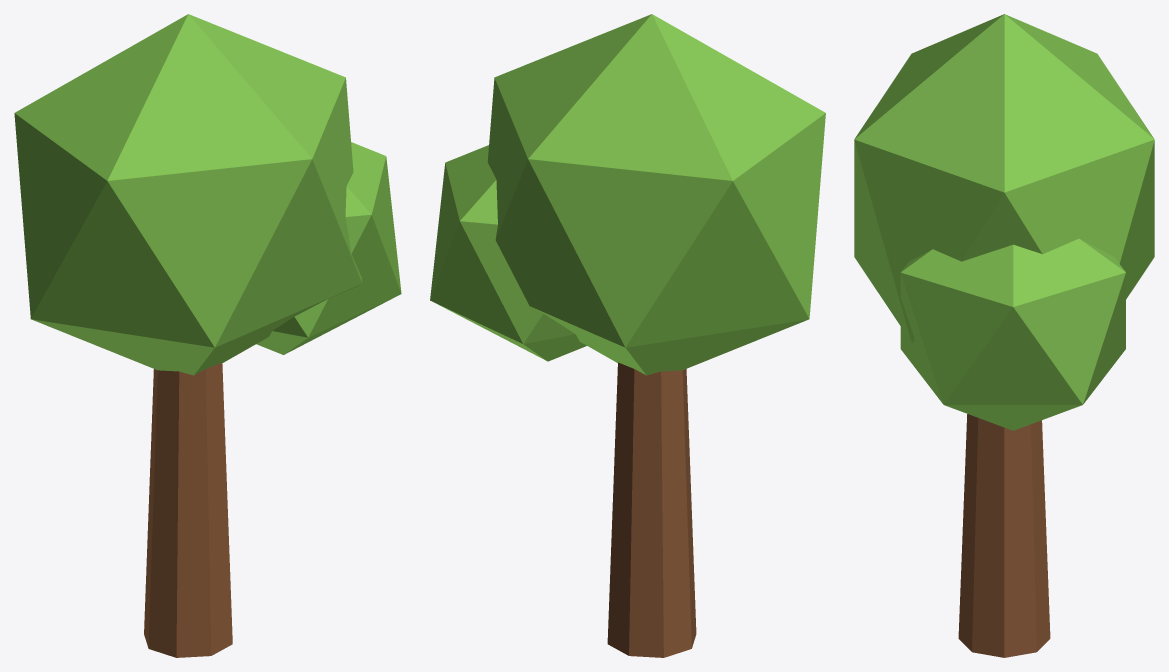
The model's file is arvore-estilizada.glb.
The picture shows the model from 3 angles, left to right: view 1: azimuth 30°, elevation 25°; view 2: azimuth 150°, elevation 25°; view 3: azimuth 270°, elevation 25°; orthographic projection.
Visible parts, largest first — view 1: Copa, Tronco, Copa lateral; view 2: Copa, Tronco, Copa lateral; view 3: Copa, Copa lateral, Tronco.
Part boxes in pixels (<box>): Copa: <box>14,14,362,375</box>; Tronco: <box>144,362,232,657</box>; Copa lateral: <box>256,142,401,354</box>; Copa: <box>487,14,825,375</box>; Tronco: <box>607,362,696,657</box>; Copa lateral: <box>430,145,586,361</box>; Copa: <box>854,14,1154,343</box>; Copa lateral: <box>900,238,1125,430</box>; Tronco: <box>958,414,1050,657</box>.
Size of the model in its own units: 2.35 by 3.9 by 1.7.
